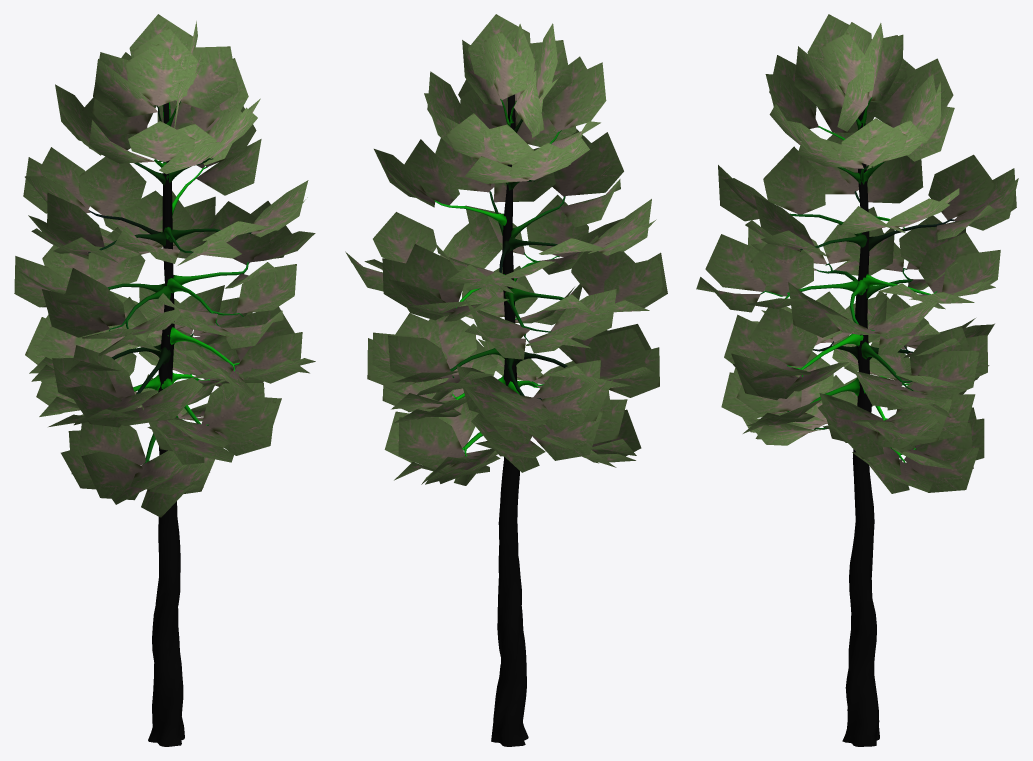
Rendered from Pine.fbx.
The picture shows the model from 3 angles, left to right: view 1: azimuth 30°, elevation 25°; view 2: azimuth 150°, elevation 25°; view 3: azimuth 270°, elevation 25°; orthographic projection.
Visible parts, largest first — view 1: Tree_1, Tree_0; view 2: Tree_1, Tree_0; view 3: Tree_1, Tree_0.
Boxes of the visible parts, x1,y1,x2,y2 form: Tree_1: (14, 14, 315, 517); Tree_0: (88, 100, 252, 746); Tree_1: (345, 14, 667, 485); Tree_0: (434, 94, 598, 746); Tree_1: (696, 14, 1018, 493); Tree_0: (760, 97, 955, 746).
Bounding box in the file's own units: 218 × 532 × 217.
1 material, 1 textured.
